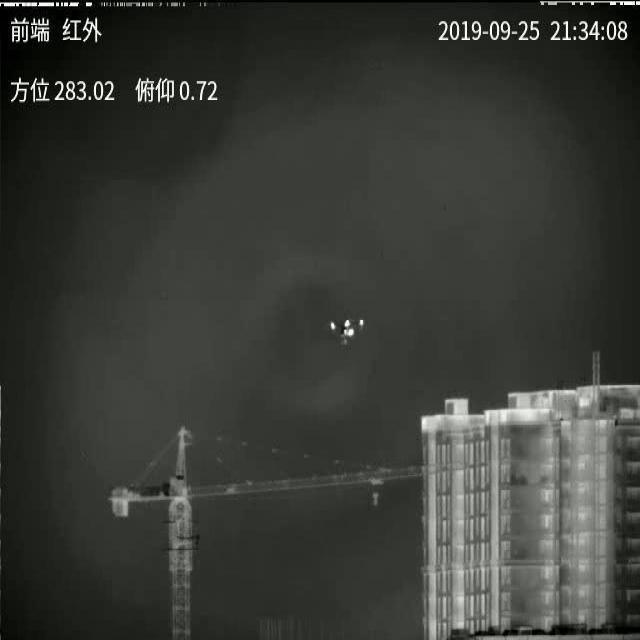drone: (330, 319, 364, 346)
